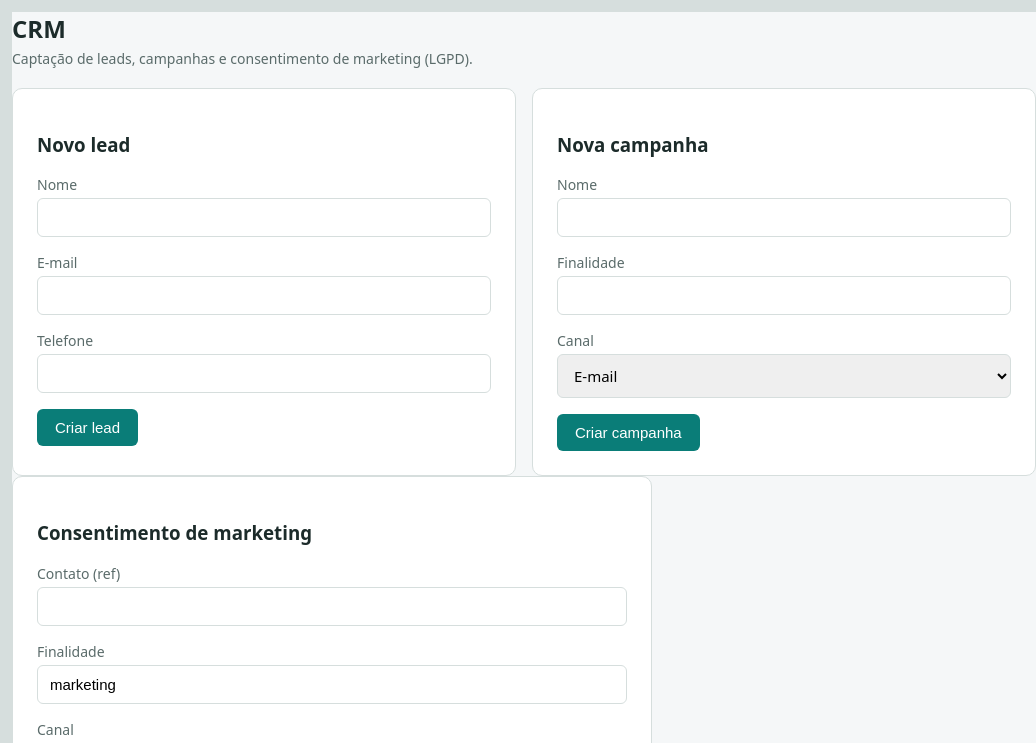
it: CrmPage › cria um lead e exibe o status
The width and height of the screenshot is (1036, 743).
Type "Contato Teste" into the field labelled "Nome" below "Novo lead" at coordinates (264, 218), box [37,198,491,237]
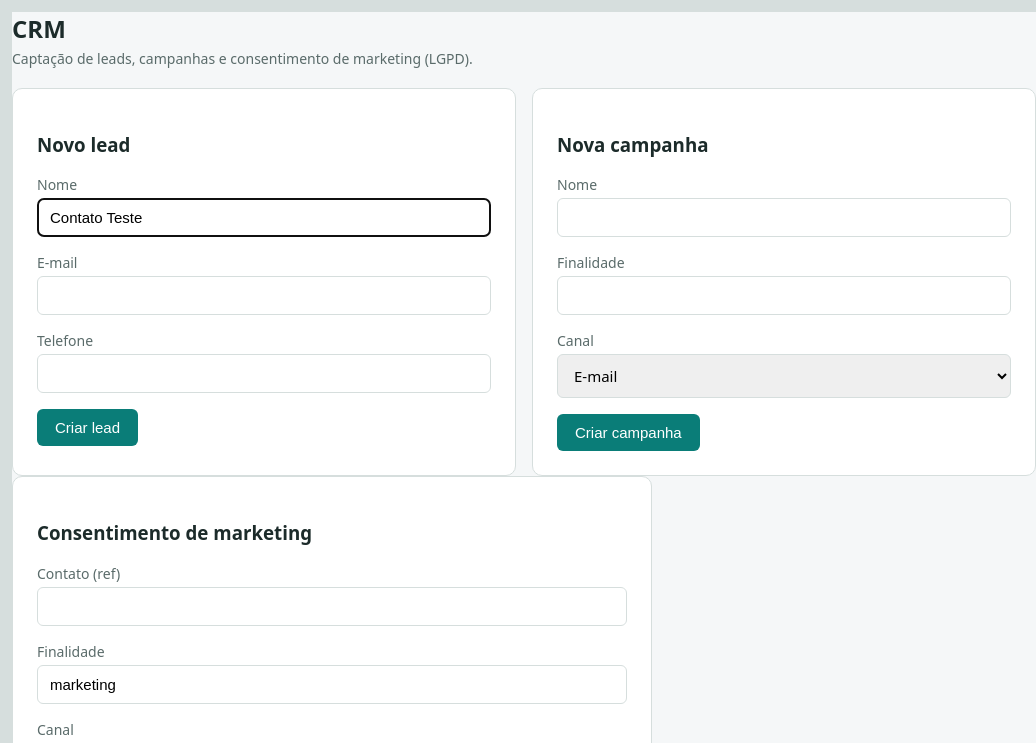
Click the button "Criar lead" at coordinates (88, 428), box [37,409,138,446]
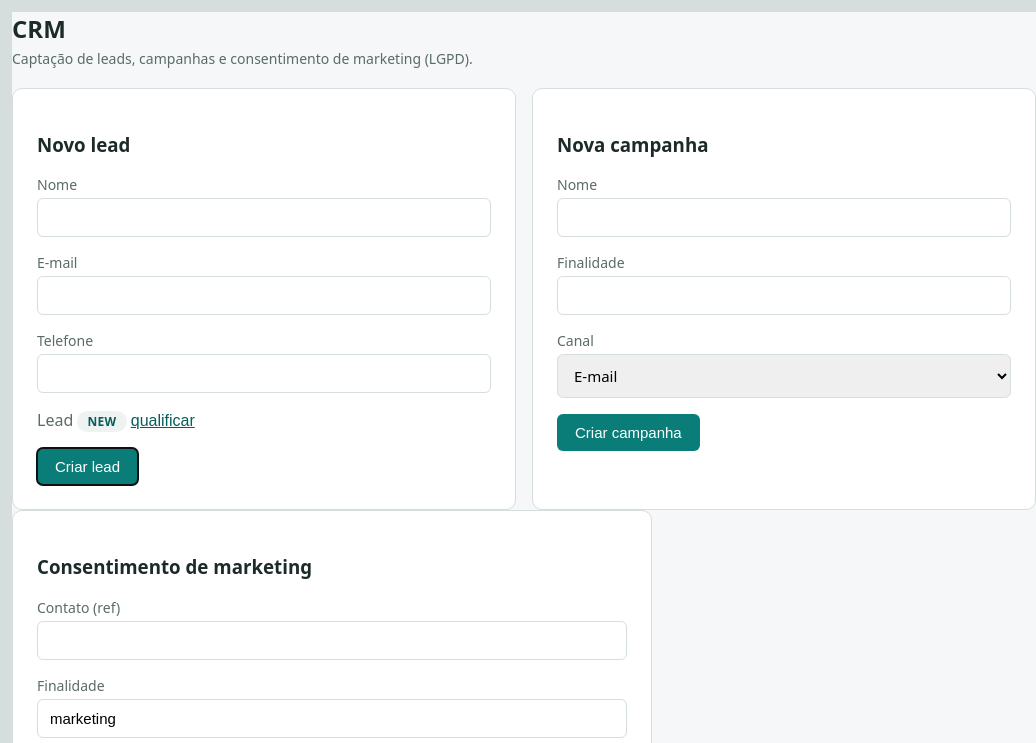
Now the text "new" is shown, box [77,411,127,432]
